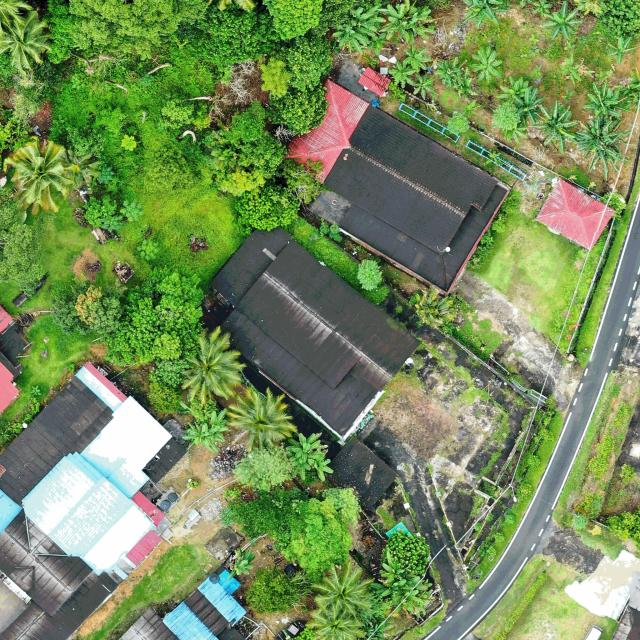0: (7, 140, 81, 217), (180, 326, 245, 406), (224, 385, 294, 455), (311, 562, 374, 618), (0, 6, 51, 71), (306, 600, 364, 640)
banana_tree2: (370, 550, 433, 618), (574, 114, 630, 170), (332, 2, 388, 58), (286, 430, 334, 486), (495, 75, 546, 126), (380, 0, 436, 46), (533, 99, 580, 150), (582, 80, 635, 121), (181, 408, 229, 453), (434, 55, 478, 98), (541, 1, 584, 41), (468, 45, 506, 85), (461, 0, 509, 29), (606, 36, 638, 66), (402, 44, 432, 73), (388, 61, 419, 88), (409, 72, 438, 99)
tree: (220, 486, 362, 576), (200, 100, 288, 199), (234, 184, 300, 236), (265, 85, 329, 136), (245, 564, 308, 615), (231, 441, 295, 491), (287, 34, 336, 90), (262, 0, 324, 41), (380, 528, 430, 577), (280, 157, 327, 205), (408, 284, 459, 328), (356, 257, 384, 290)
